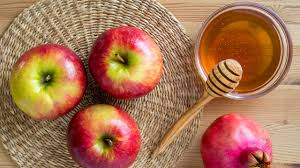apple: (90, 25, 166, 99), (11, 43, 85, 116), (64, 107, 144, 168), (204, 115, 274, 168)
